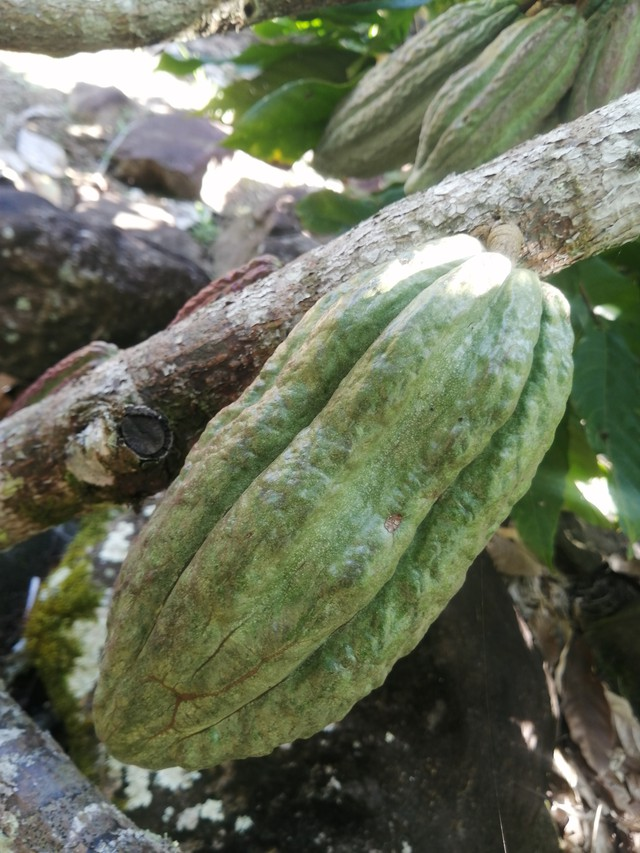Health: (62, 219, 597, 778)
